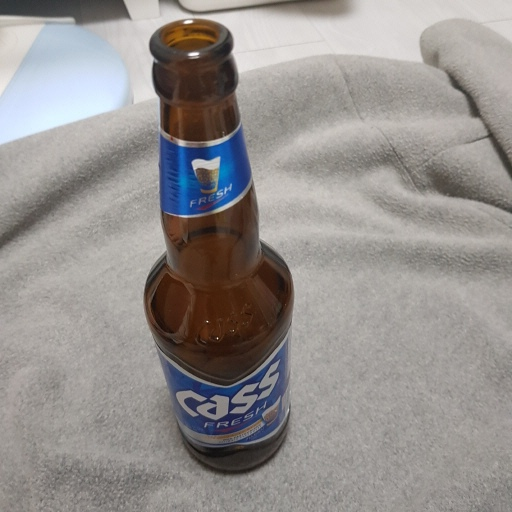Glass_1: (139, 15, 302, 478)
